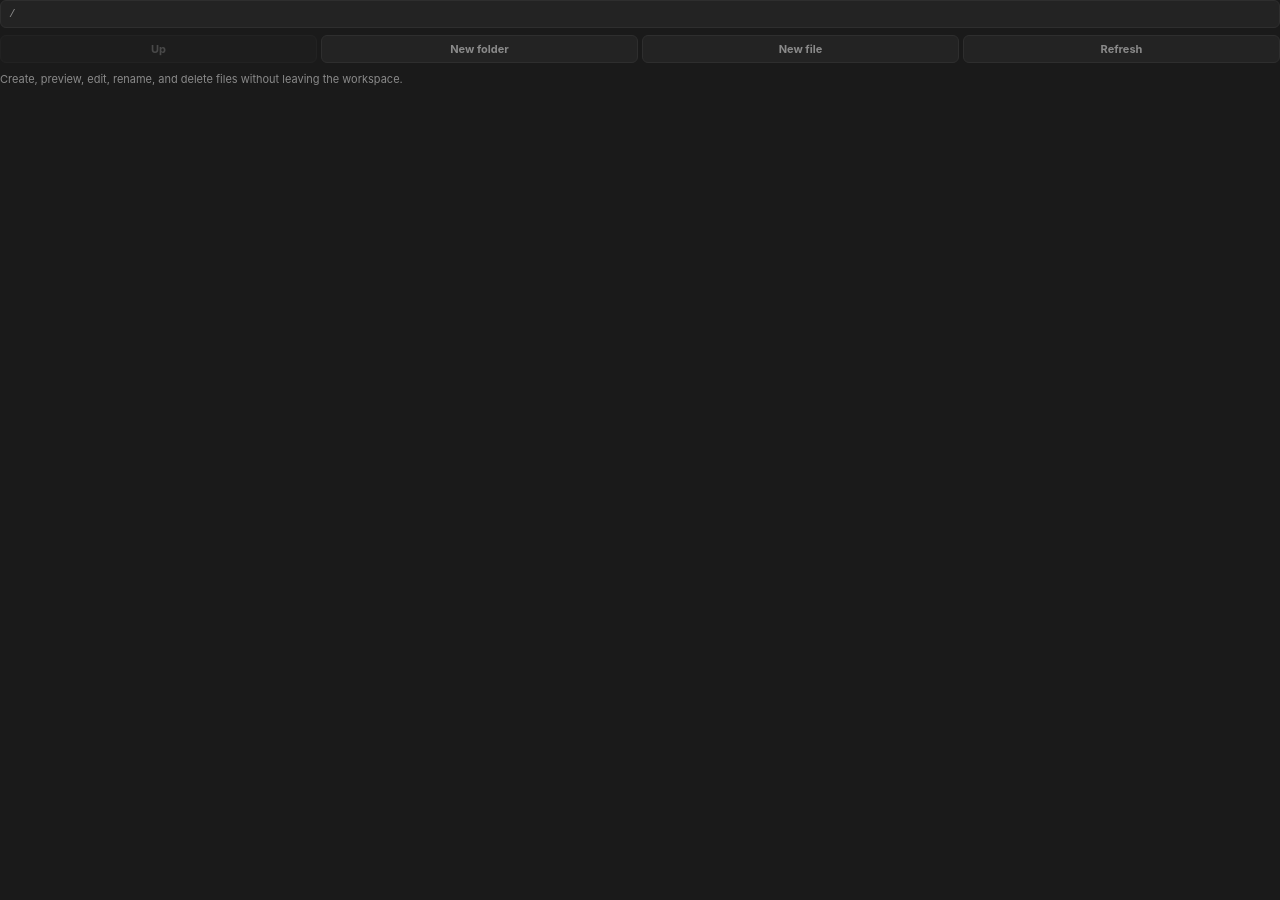
it: WorkspaceFilePanel - Error Handling Properties › Property 7: Error messages distinguish error types › should format validation errors distinctly
Click the button "New folder" at (480, 49), box [321,35,638,63]
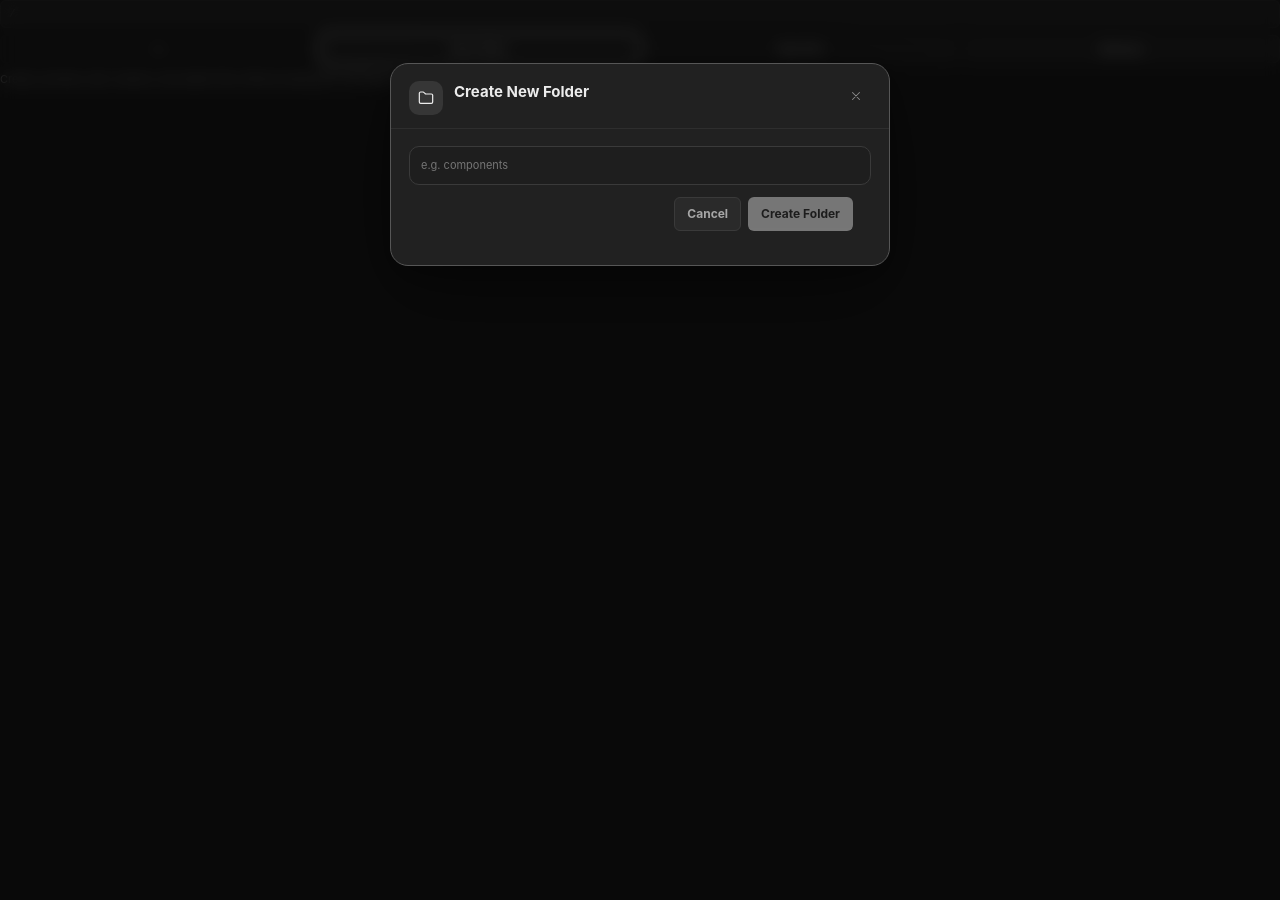
Type "invalid/name" into the field at (640, 166), box [409,146,871,185]
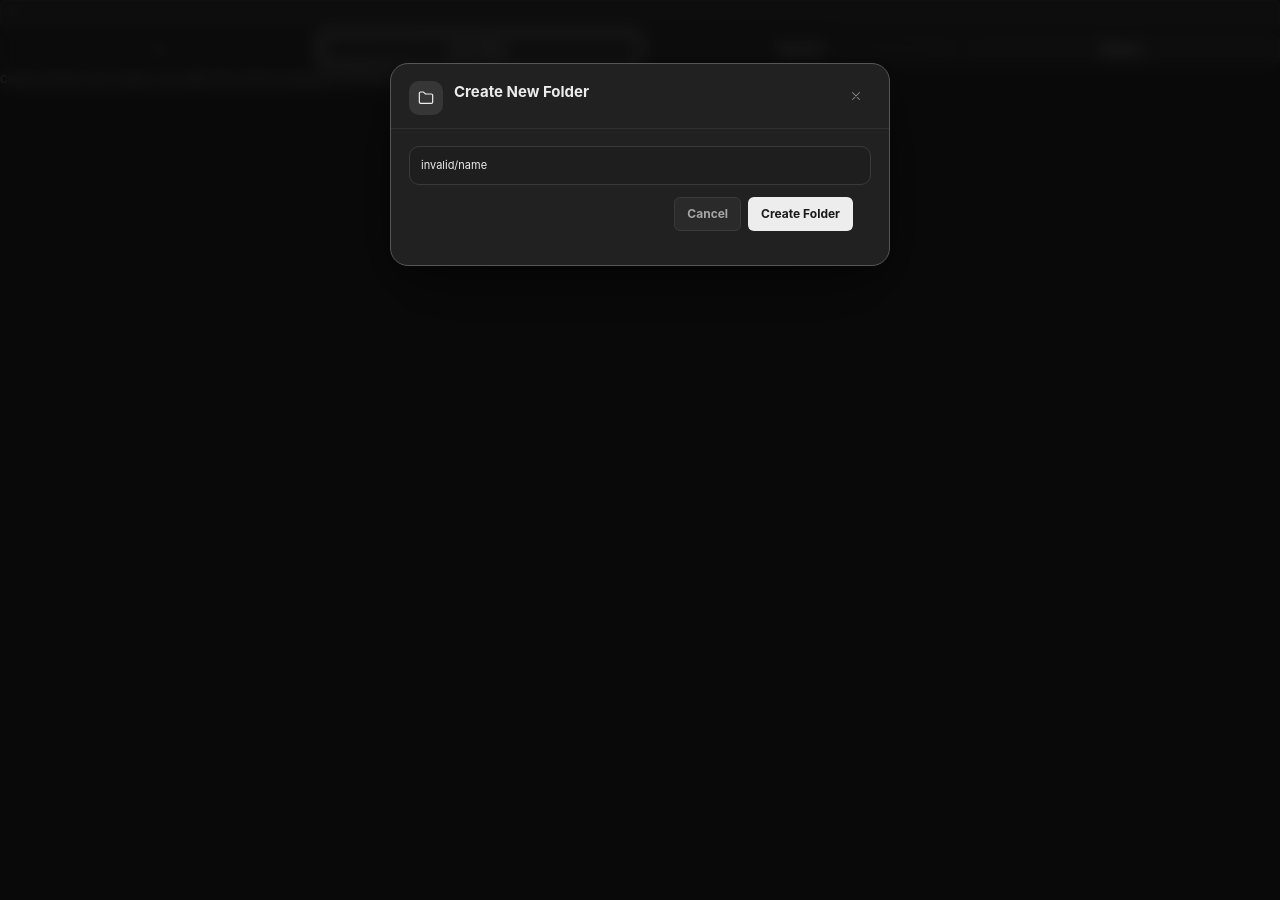
Click the button "Create Folder" at (801, 214), box [748,197,853,231]
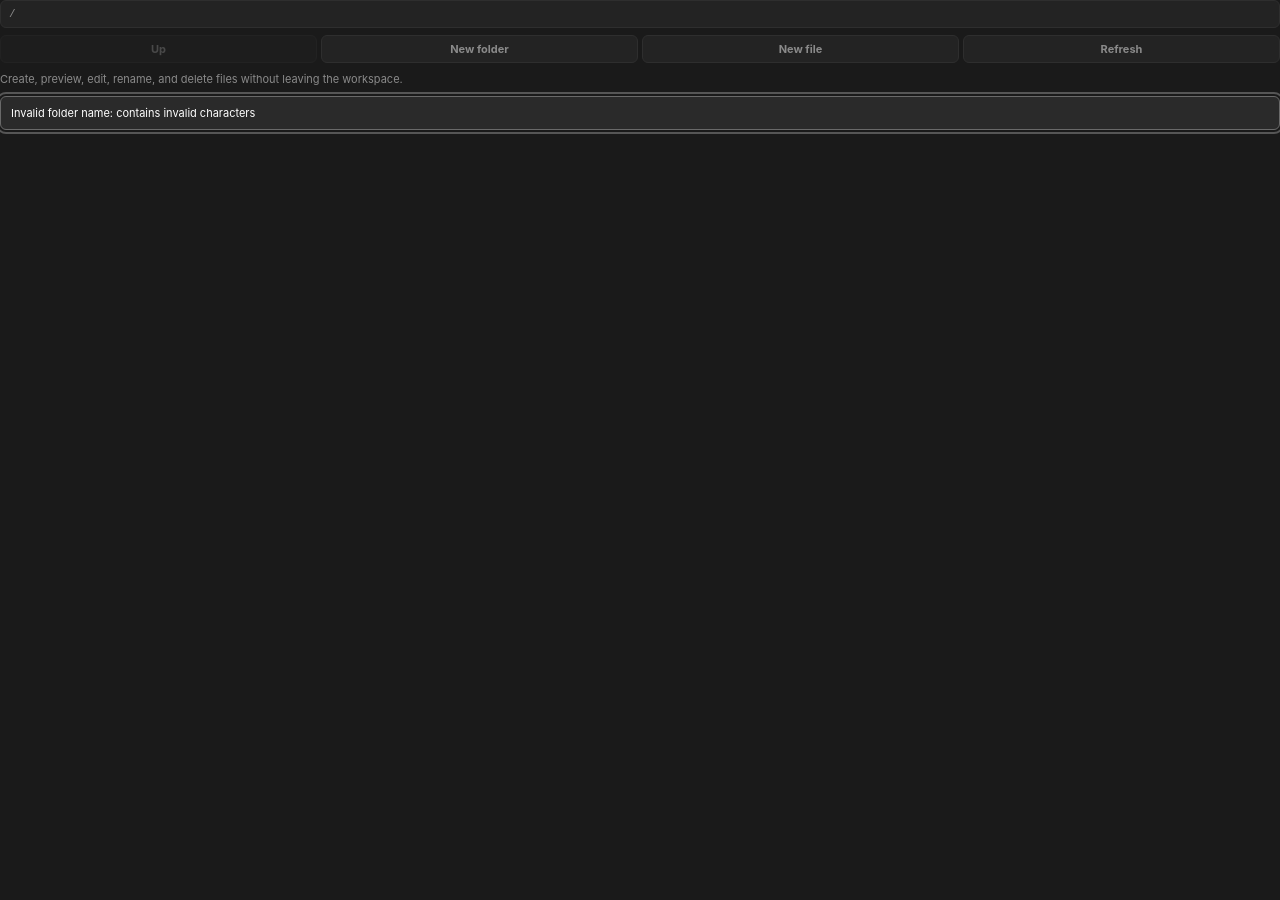
Expected: the text "Invalid folder name: contains invalid characters" is shown, [0,96,1279,130]
